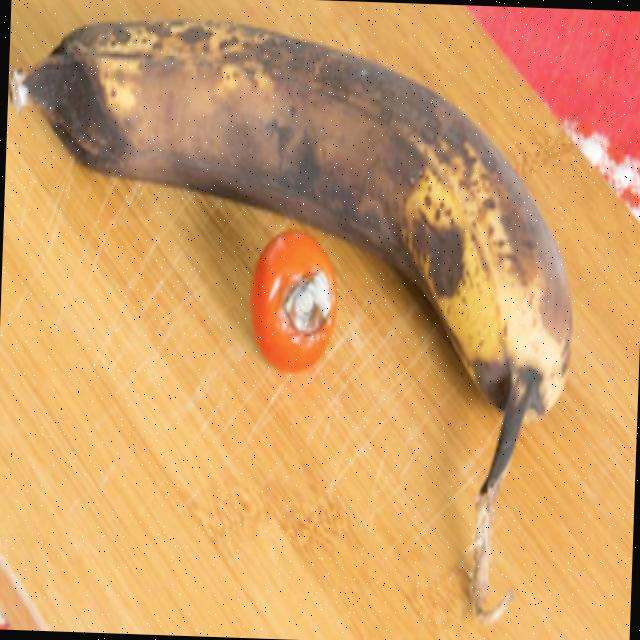rotten banana: (0, 0, 617, 630)
